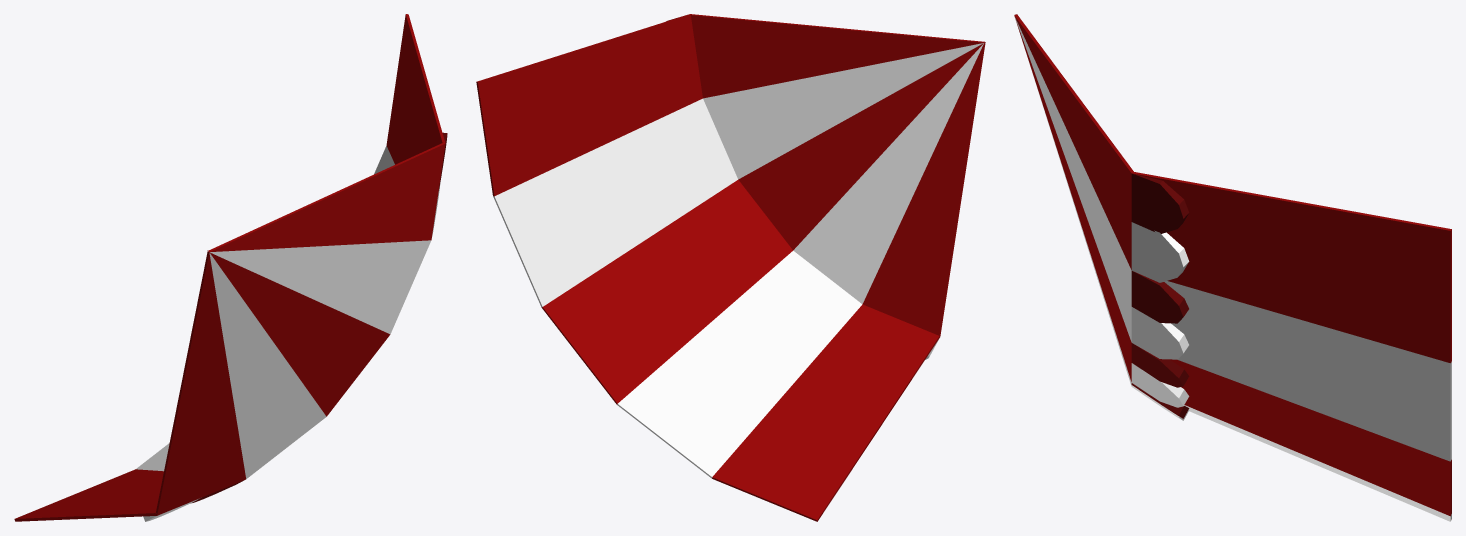
The model's file is tent fbx.fbx.
3 renders of one model, left to right at view 1: azimuth 30°, elevation 25°; view 2: azimuth 150°, elevation 25°; view 3: azimuth 270°, elevation 25°, orthographic. The views are drawn at different scales.
Visible parts, largest first — view 1: Object_17, Object_13, Object_11, Object_19, Object_15; view 2: Object_15, Object_19, Object_11, Object_17, Object_13; view 3: Object_17, Object_19, Object_15, Object_9, Object_10, Object_7, Object_11, Object_8, Object_5, Object_6.
Part boxes in pixels (x1=…): Object_17: x1=207, y1=14, x2=445, y2=252; Object_13: x1=14, y1=251, x2=245, y2=521; Object_11: x1=136, y1=251, x2=326, y2=478; Object_19: x1=210, y1=146, x2=431, y2=334; Object_15: x1=209, y1=252, x2=390, y2=416; Object_15: x1=541, y1=42, x2=984, y2=404; Object_19: x1=493, y1=43, x2=983, y2=307; Object_11: x1=617, y1=43, x2=983, y2=478; Object_17: x1=476, y1=14, x2=985, y2=196; Object_13: x1=712, y1=42, x2=985, y2=521; Object_17: x1=1014, y1=15, x2=1451, y2=363; Object_19: x1=1015, y1=17, x2=1451, y2=461; Object_15: x1=1015, y1=19, x2=1451, y2=516; Object_9: x1=1131, y1=173, x2=1189, y2=233; Object_10: x1=1131, y1=222, x2=1189, y2=282; Object_7: x1=1131, y1=271, x2=1188, y2=323; Object_11: x1=1024, y1=47, x2=1451, y2=521; Object_8: x1=1131, y1=307, x2=1188, y2=359; Object_5: x1=1131, y1=343, x2=1189, y2=387; Object_6: x1=1131, y1=363, x2=1189, y2=407.
Bounding box in the file's own units: 762 × 762 × 652.
